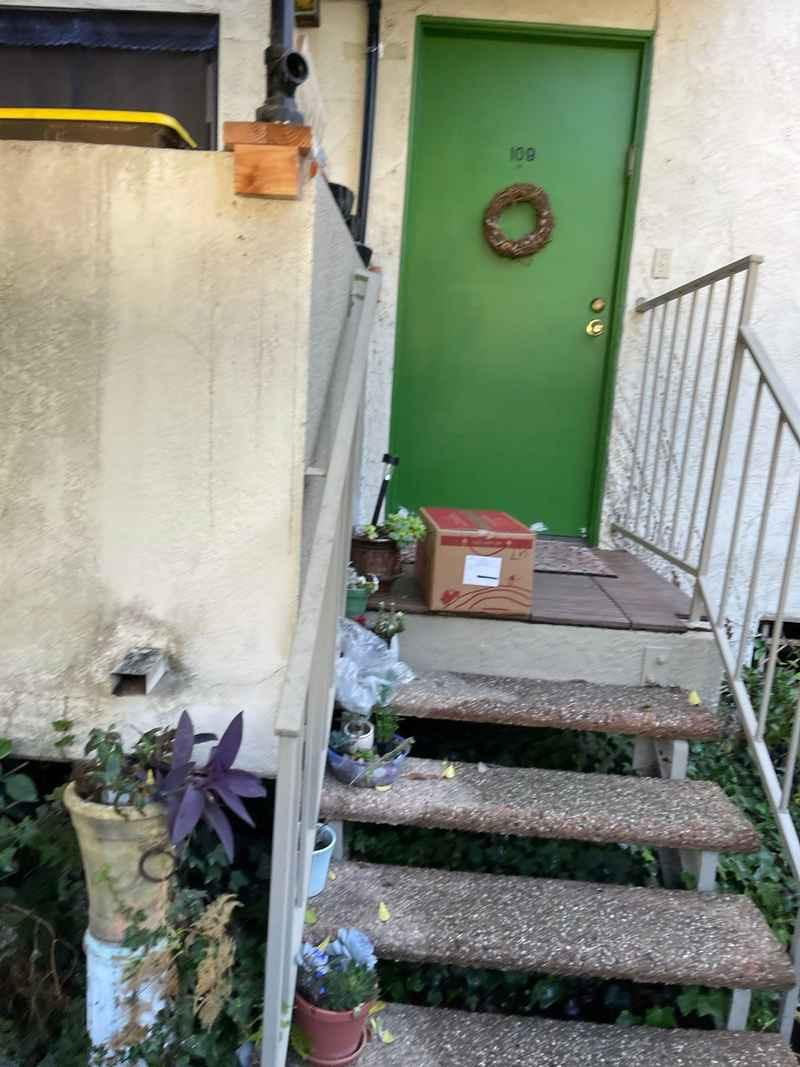package: (418, 508, 543, 624)
